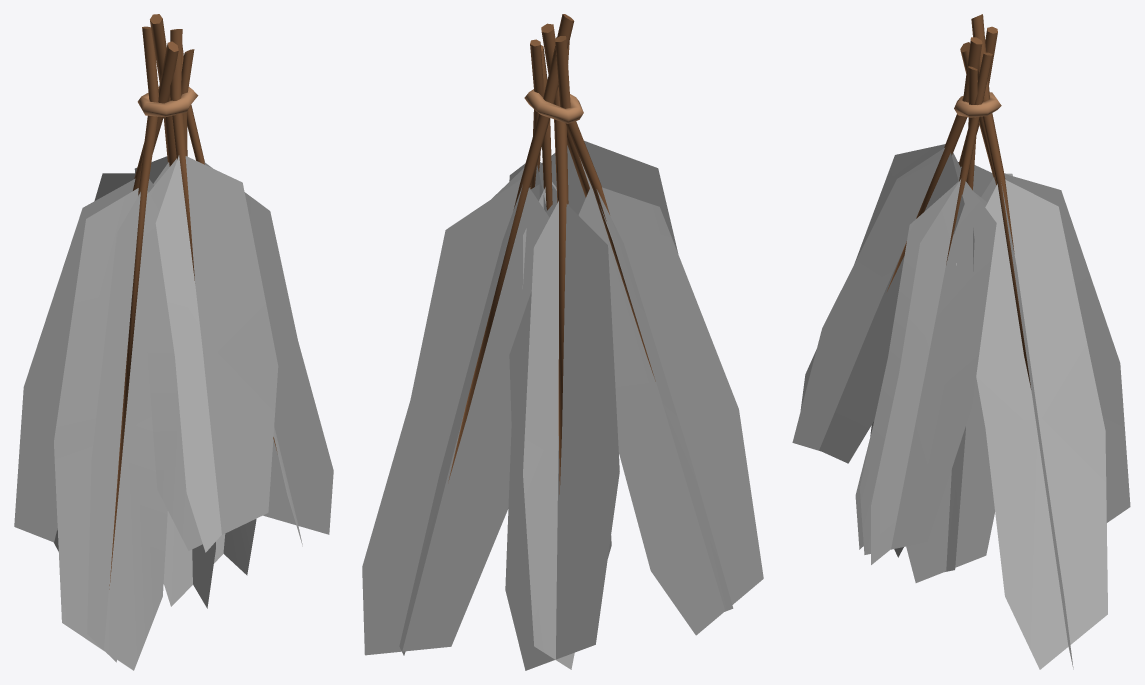
Rendered from HangingHerbBundle3.fbx.
3 renders of one model, left to right at view 1: azimuth 30°, elevation 25°; view 2: azimuth 150°, elevation 25°; view 3: azimuth 270°, elevation 25°, orthographic. The views are drawn at different scales.
Parts seen in each view (by area): view 1: HangingHerbBundle3; view 2: HangingHerbBundle3; view 3: HangingHerbBundle3.
Part boxes in pixels (box(x1,y1,x2,y2)): HangingHerbBundle3: box(14, 14, 333, 670); HangingHerbBundle3: box(362, 14, 763, 670); HangingHerbBundle3: box(792, 14, 1130, 669).
Bounding box in the file's own units: 16.52 × 34.94 × 17.89.
